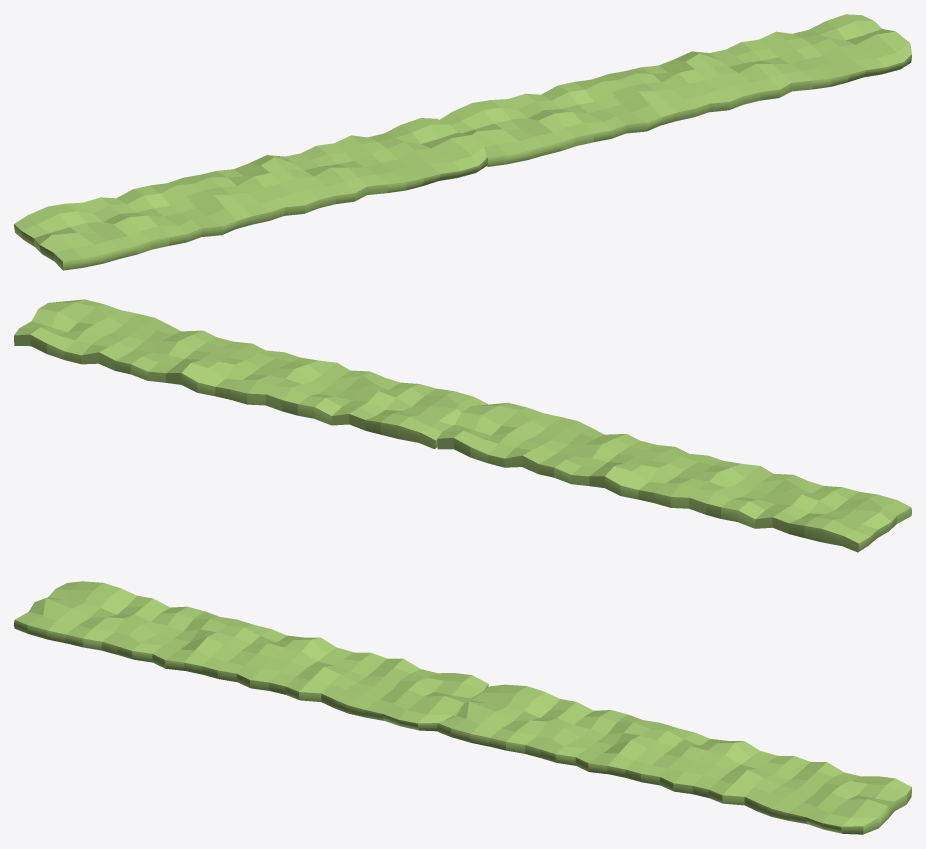
File: floor.fbx
3 renders of one model, top to bottom at view 1: azimuth 30°, elevation 25°; view 2: azimuth 150°, elevation 25°; view 3: azimuth 330°, elevation 25°, orthographic.
Visible parts, largest first — view 1: floor; view 2: floor; view 3: floor.
Boxes of the visible parts, left/top/right/bottom form: floor: left=14, top=14, right=911, bottom=270; floor: left=14, top=299, right=911, bottom=552; floor: left=14, top=581, right=911, bottom=834.
Bounding box in the file's own units: 65.77 × 549 × 12.4.
